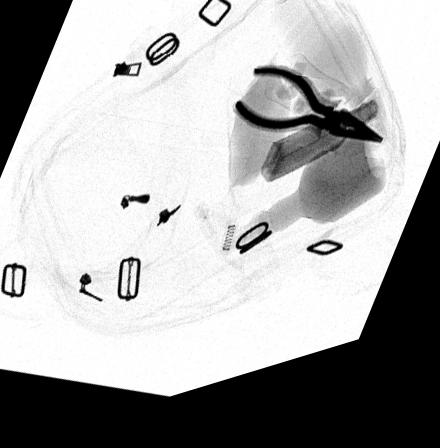Pliers: (231, 77, 384, 164)
